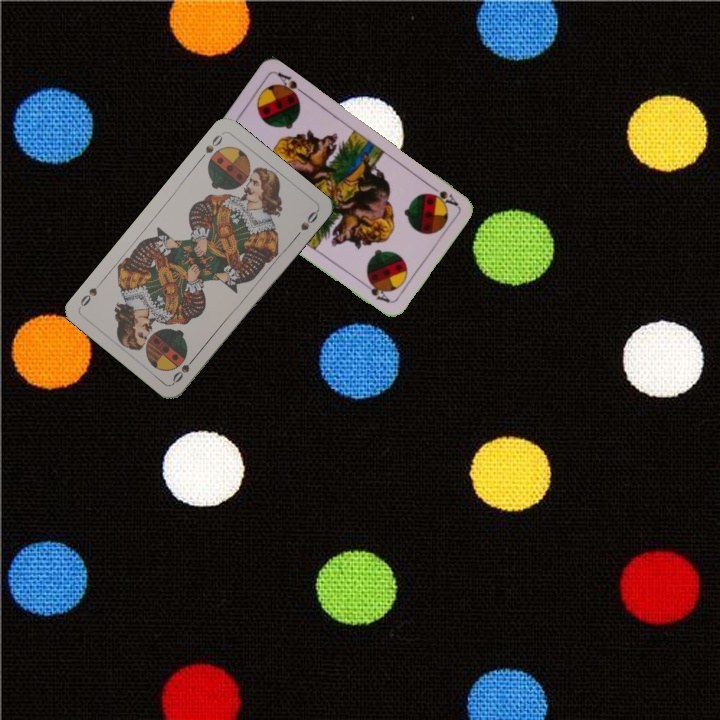SA: (424, 180, 461, 209)
SO: (168, 351, 199, 386), (195, 131, 225, 163)
